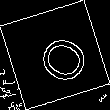O_NW: (23, 24, 87, 86)
